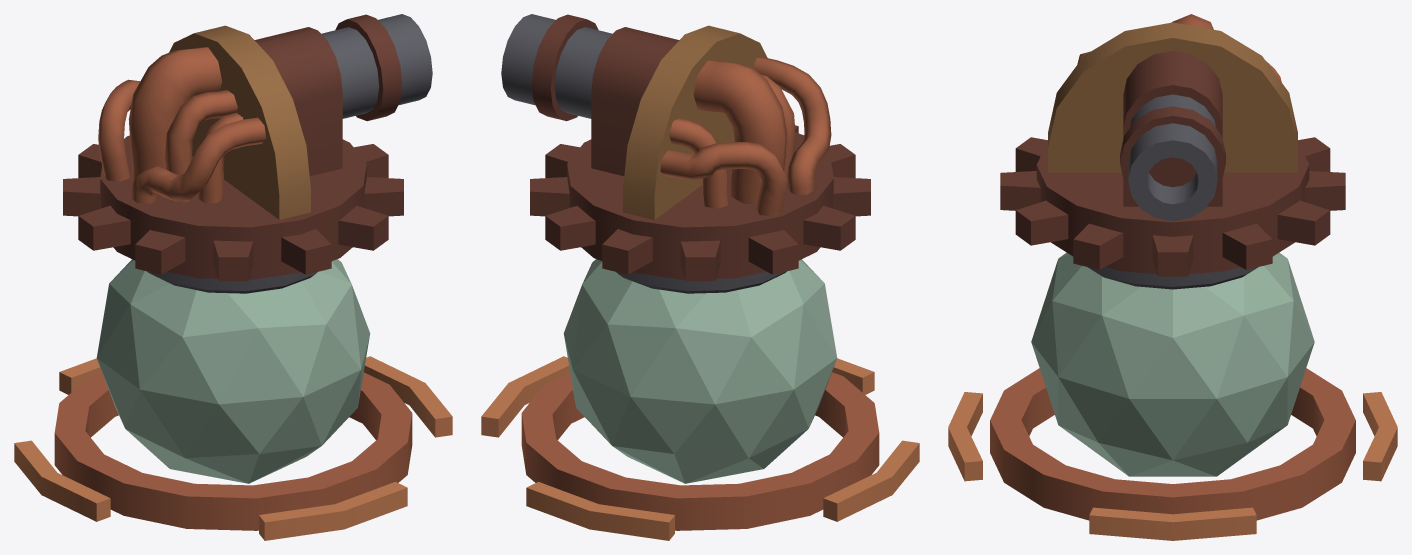
File: BaseTile_Condenser.fbx
3 renders of one model, left to right at view 1: azimuth 30°, elevation 25°; view 2: azimuth 150°, elevation 25°; view 3: azimuth 270°, elevation 25°, orthographic.
Parts seen in each view (by area): view 1: BaseTile_Condenser; view 2: BaseTile_Condenser; view 3: BaseTile_Condenser.
Part boxes in pixels (x1=…): BaseTile_Condenser: x1=14, y1=14, x2=452, y2=540; BaseTile_Condenser: x1=481, y1=14, x2=919, y2=540; BaseTile_Condenser: x1=948, y1=14, x2=1397, y2=540.
Bounding box in the file's own units: 153 × 165 × 153.
